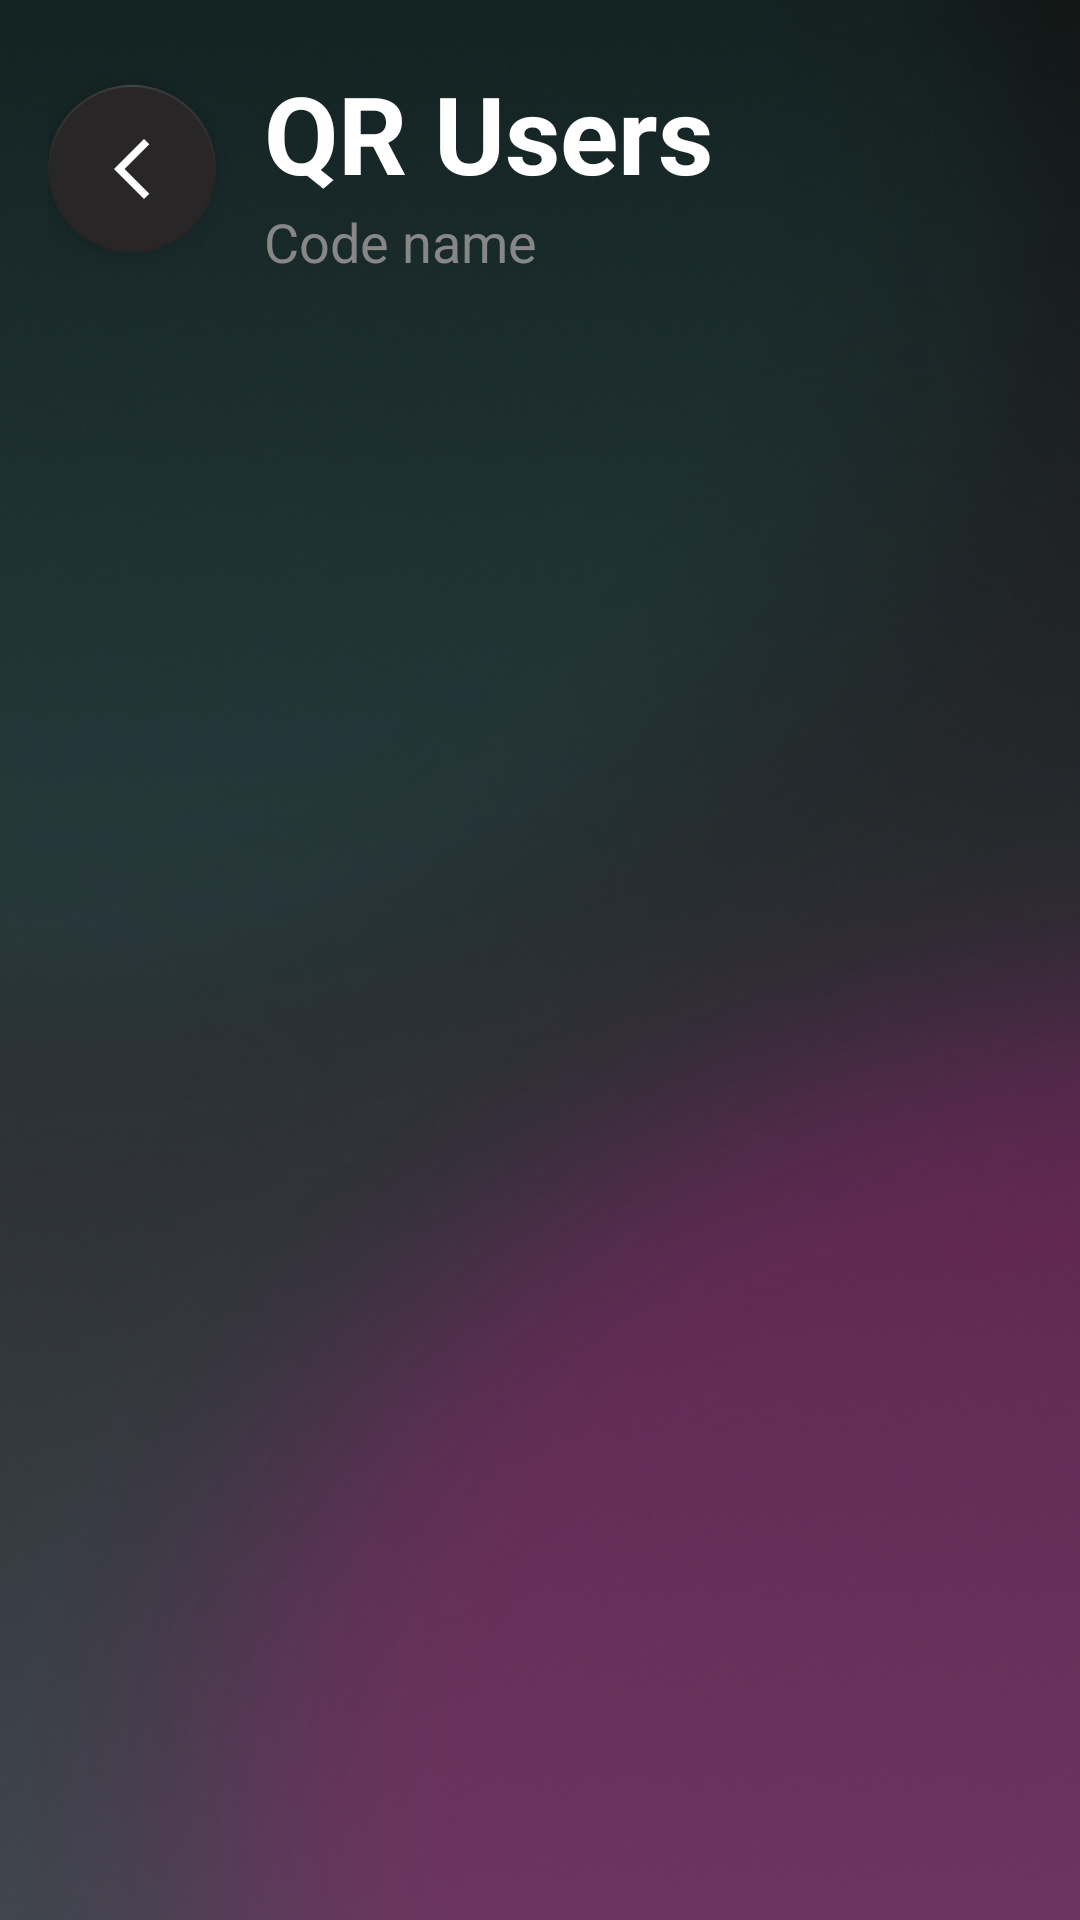

Icon bounding boxes for this 1080px×1920px phone screenshot, format (x1, y1, x2, y2):
arrow back: (48, 85, 216, 253)
